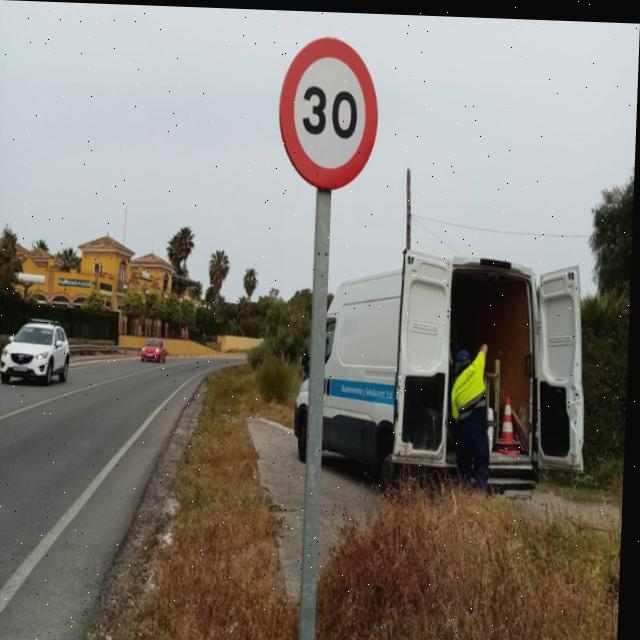Speed limit 30: (277, 31, 384, 191)
